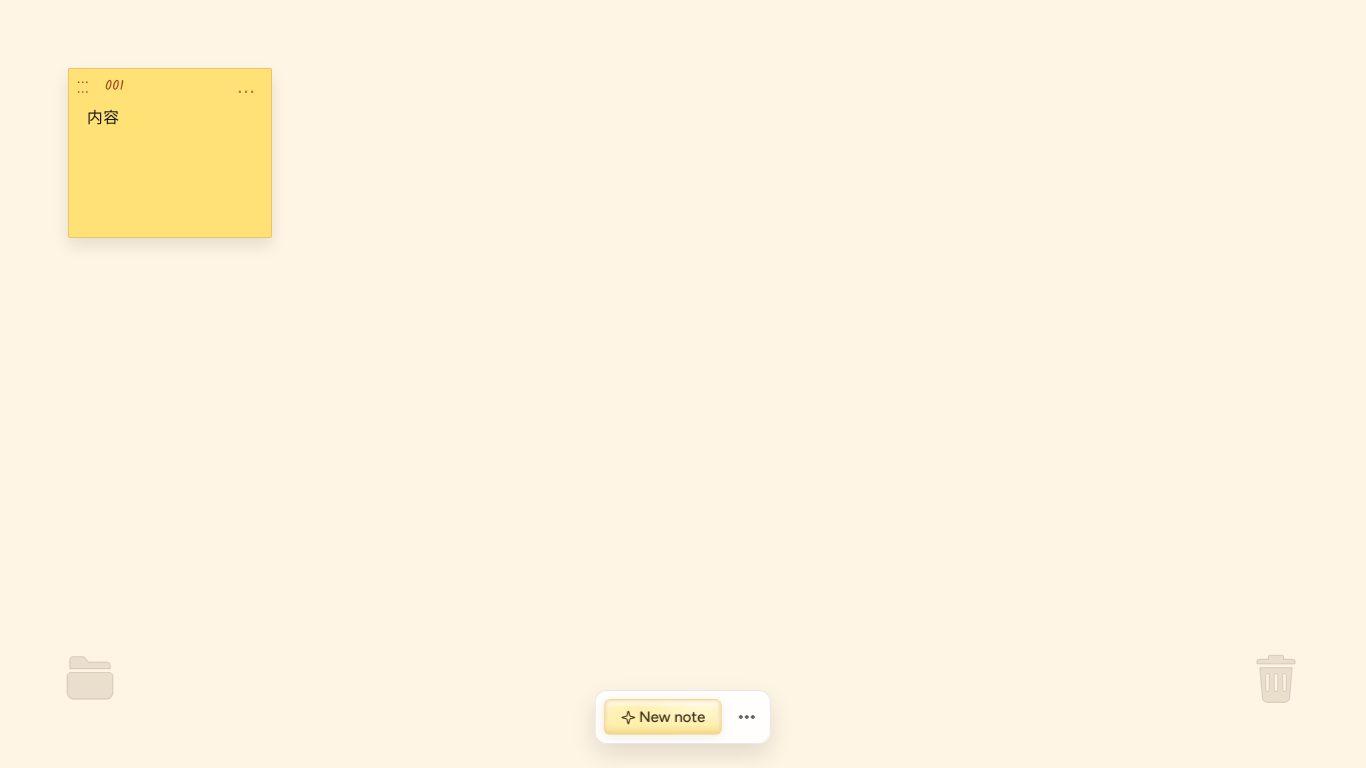
Scenario: LocalNotes › edits a note label with a single click
Expected: the text "内容" is shown, [87, 109, 119, 126]
Click the button named "Edit note label: 001" at coordinates (164, 86), box [101, 69, 227, 103]
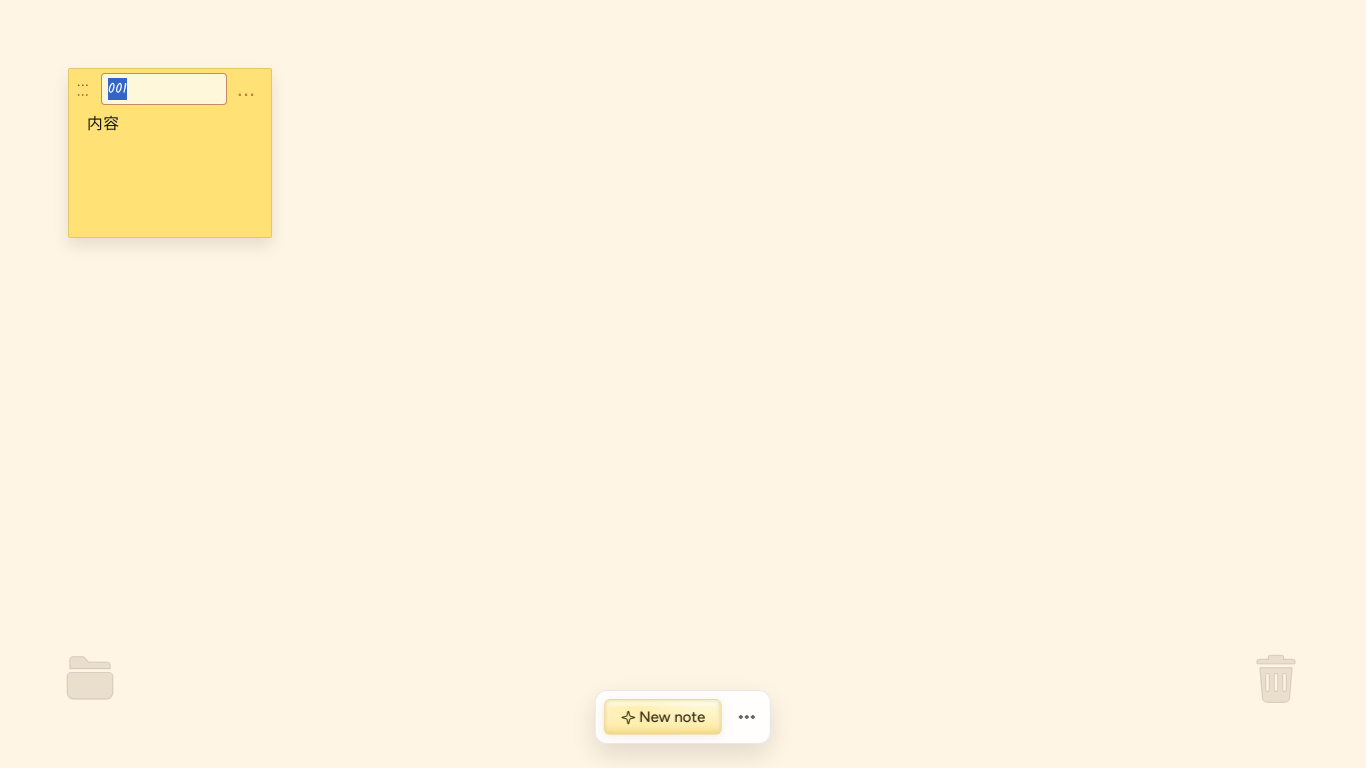
Replace the text in the field named "Edit note label" with "A1" at coordinates (164, 89), box [101, 73, 227, 105]
Then press Enter
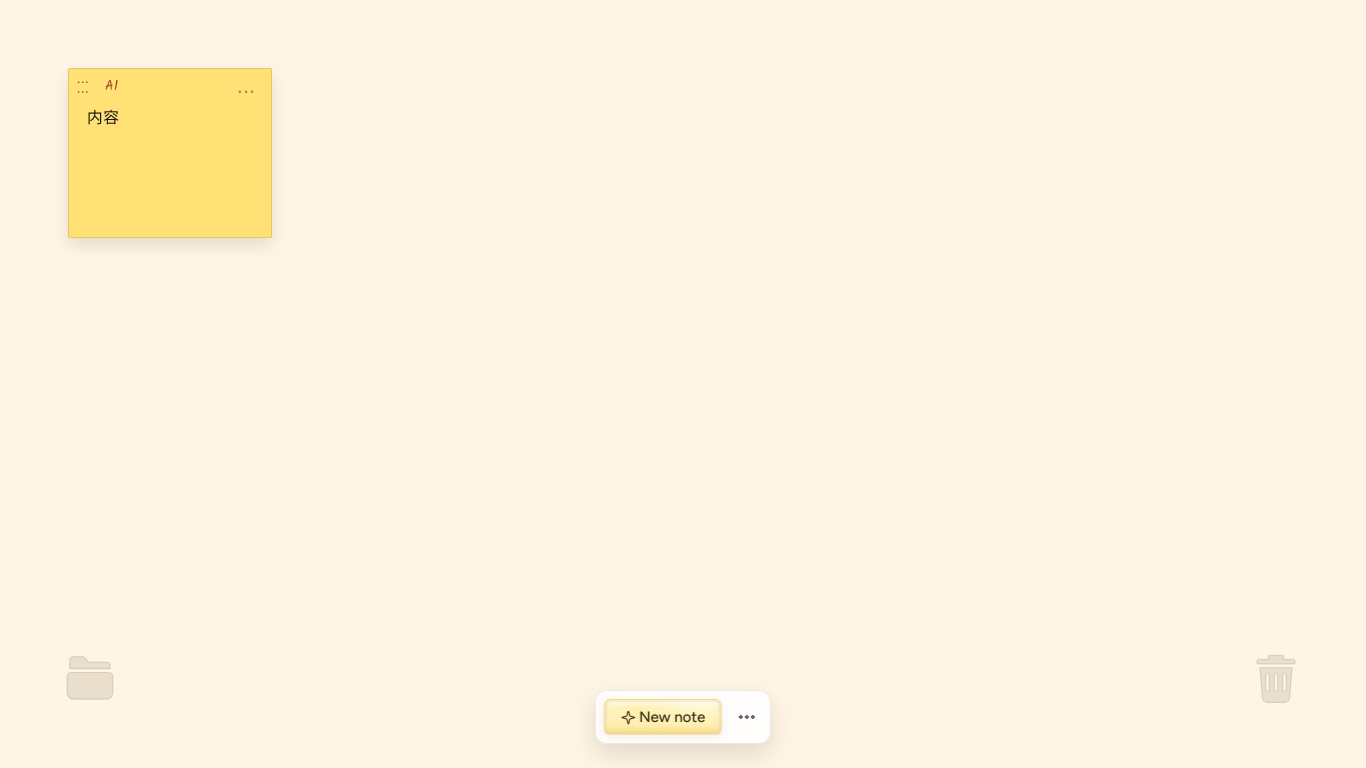
Expected: the button named "Edit note label: A1" is shown, [101, 69, 227, 103]
